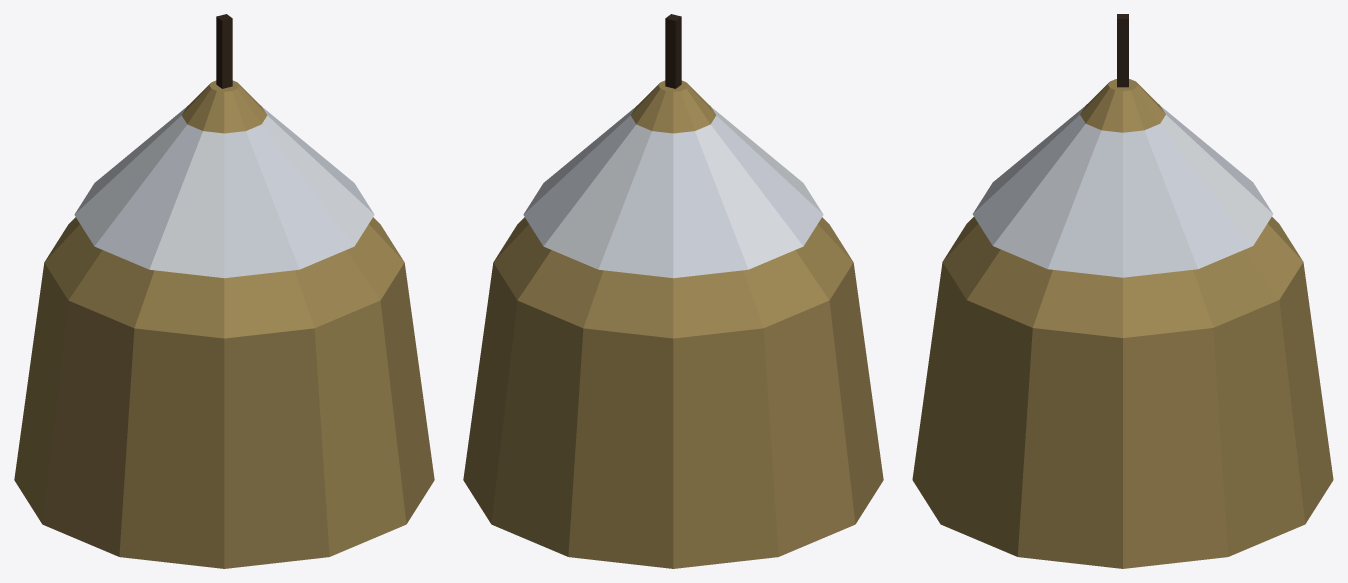
Rendered from village_haystack.glb.
The picture shows the model from 3 angles, left to right: view 1: azimuth 30°, elevation 25°; view 2: azimuth 150°, elevation 25°; view 3: azimuth 270°, elevation 25°; orthographic projection.
Visible parts, largest first — view 1: village_haystack; view 2: village_haystack; view 3: village_haystack.
Boxes of the visible parts, <box> form: village_haystack: <box>14,14,434,568</box>; village_haystack: <box>463,14,883,568</box>; village_haystack: <box>912,14,1333,568</box>.
Size of the model in its own units: 2.8 by 3.4 by 2.8.
